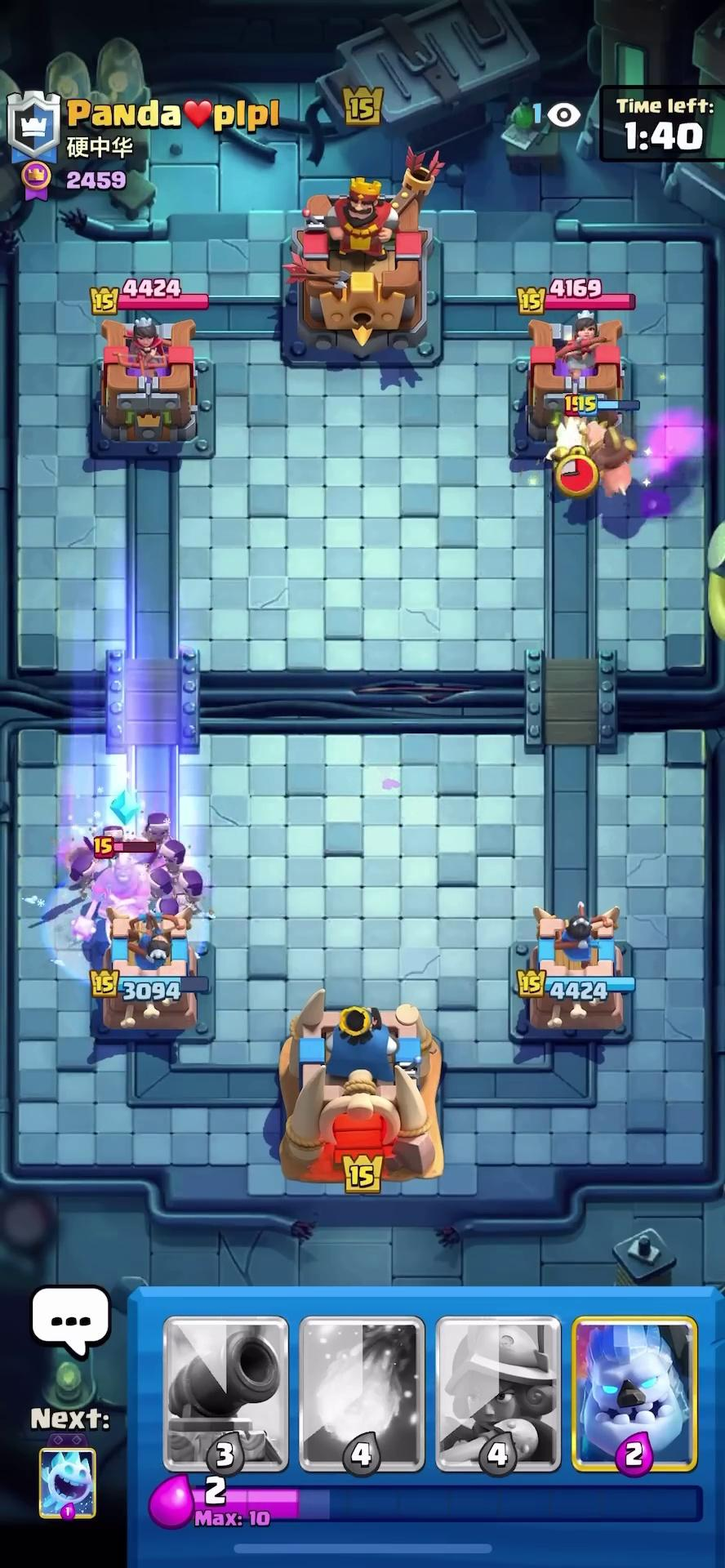evo_skeletons: (141, 808, 210, 925), (63, 821, 118, 892)
hog_rider: (574, 404, 635, 517)
